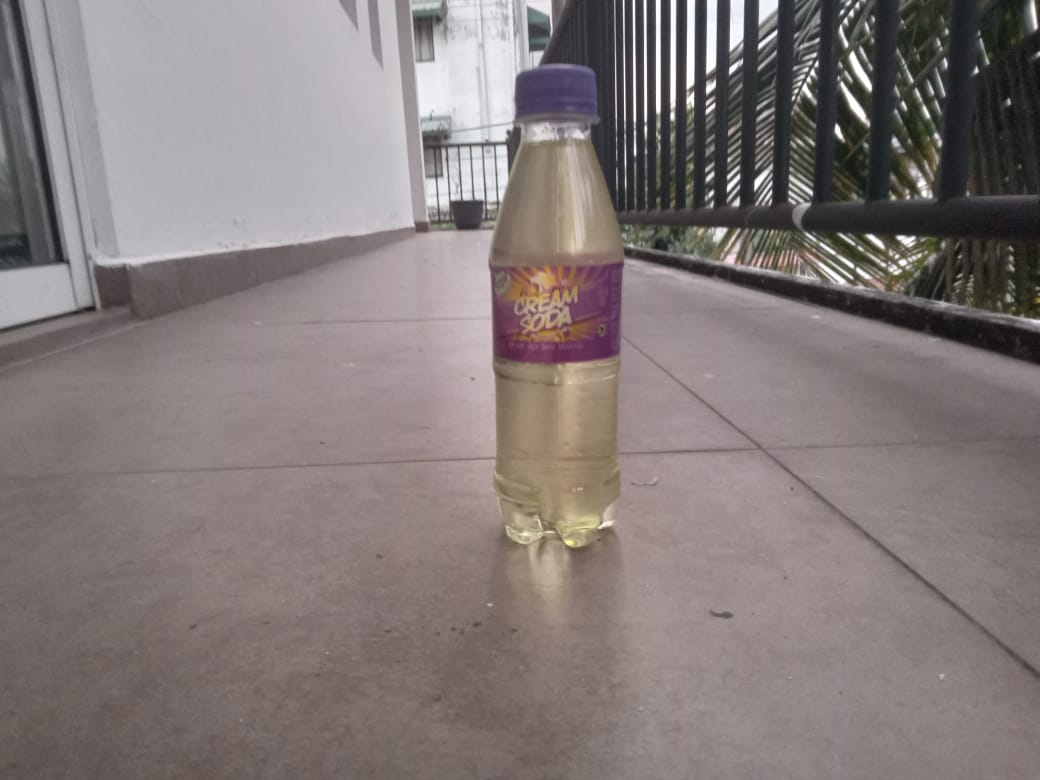Xs: (478, 61, 634, 571)
